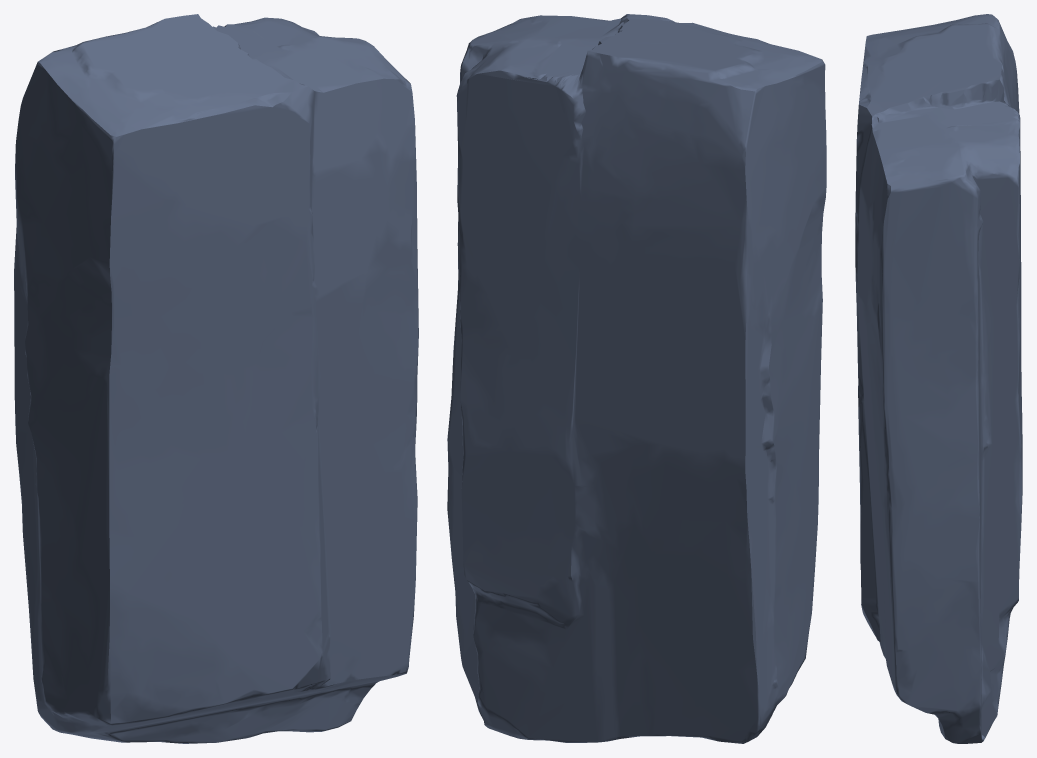
3 renders of one model, left to right at view 1: azimuth 30°, elevation 25°; view 2: azimuth 150°, elevation 25°; view 3: azimuth 270°, elevation 25°, orthographic. The views are drawn at different scales.
Visible parts, largest first — view 1: SM_GF_Cliff_02_LOD0; view 2: SM_GF_Cliff_02_LOD0; view 3: SM_GF_Cliff_02_LOD0.
Part boxes in pixels (left/top/right/bottom): SM_GF_Cliff_02_LOD0: left=14, top=14, right=418, bottom=743; SM_GF_Cliff_02_LOD0: left=447, top=14, right=826, bottom=743; SM_GF_Cliff_02_LOD0: left=855, top=14, right=1022, bottom=743.
Bounding box in the file's own units: 21.79 × 45.09 × 11.02.
